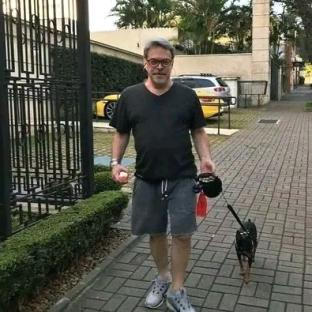Animal: (228, 205, 257, 283)
Human: (111, 38, 215, 311)
